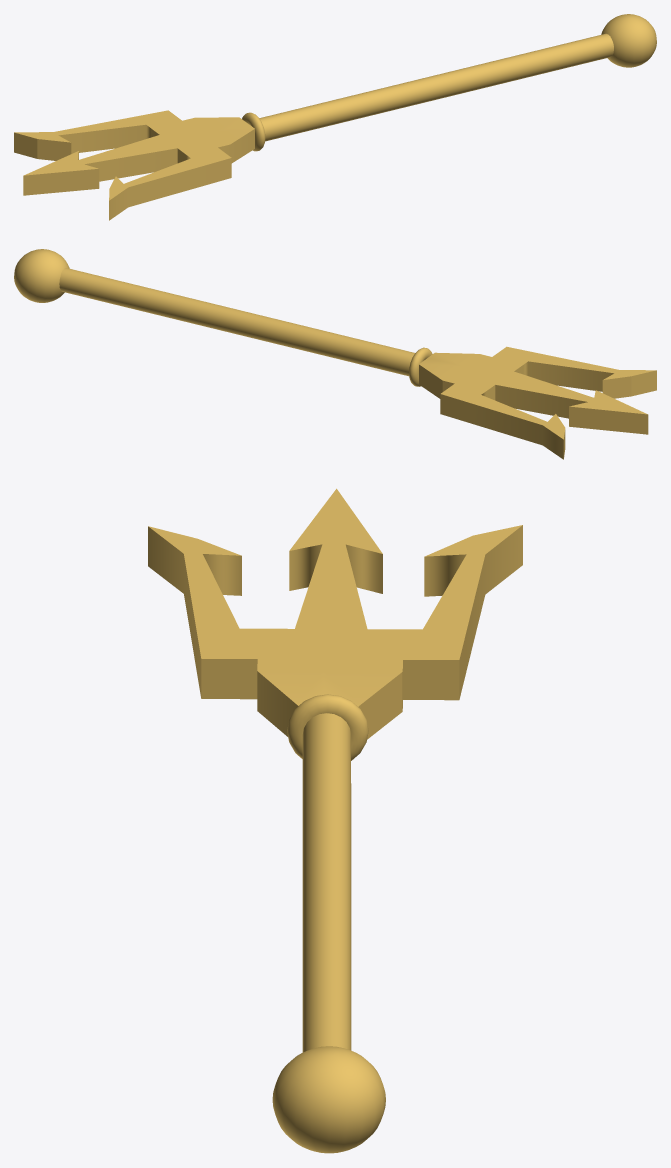
The model's file is Trident.fbx.
3 renders of one model, top to bottom at view 1: azimuth 30°, elevation 25°; view 2: azimuth 150°, elevation 25°; view 3: azimuth 270°, elevation 25°, orthographic. The views are drawn at different scales.
Parts seen in each view (by area): view 1: Fork, Holder, Sphere_bottom, Torus; view 2: Fork, Holder, Sphere_bottom, Torus; view 3: Fork, Holder, Sphere_bottom, Torus.
Boxes of the visible parts, <box> form: Fork: <box>14,110,254,220</box>; Holder: <box>259,33,613,141</box>; Sphere_bottom: <box>601,14,656,67</box>; Torus: <box>242,112,265,151</box>; Fork: <box>419,346,656,459</box>; Holder: <box>59,268,414,376</box>; Sphere_bottom: <box>14,249,69,302</box>; Torus: <box>409,347,432,386</box>; Fork: <box>148,488,522,739</box>; Holder: <box>302,713,351,1052</box>; Sphere_bottom: <box>272,1046,385,1153</box>; Torus: <box>287,694,368,760</box>.
Size of the model in its own units: 7.55 by 0.5509 by 1.95.
